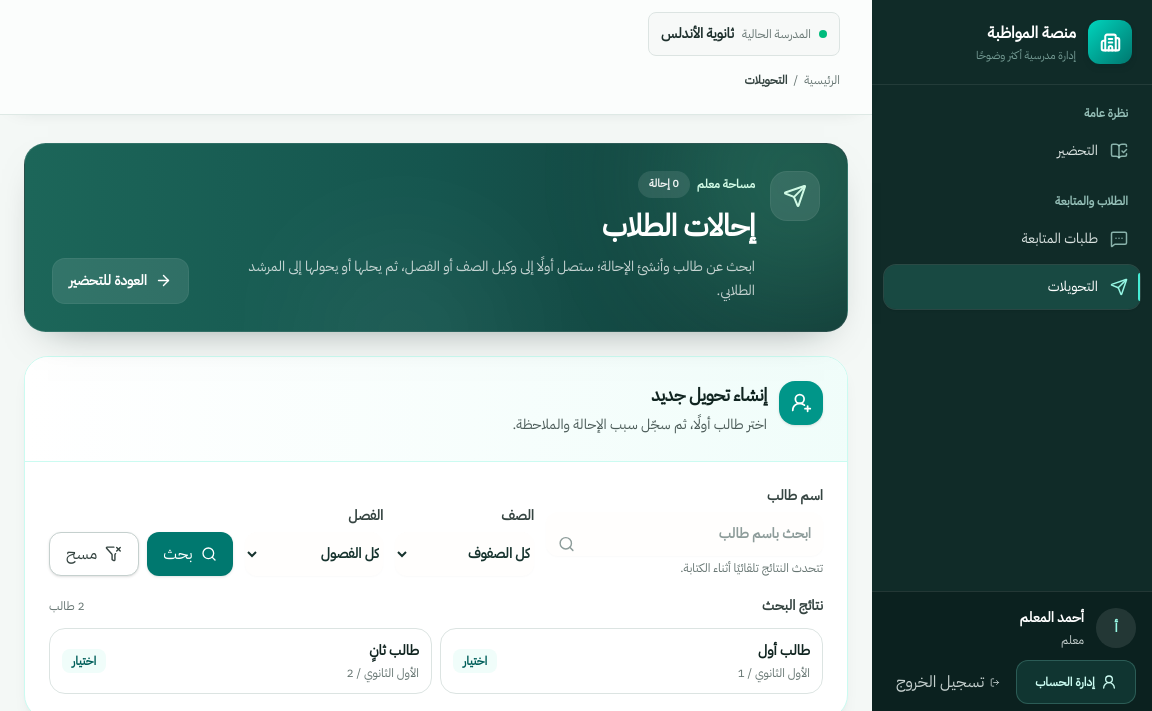
Scenario: referrals (Phase 13) › teacher refers a student from the dedicated referrals page
Click the button with test id "referral-candidate-11": (784, 650) 440,628 -> 823,694
(page scrolled)
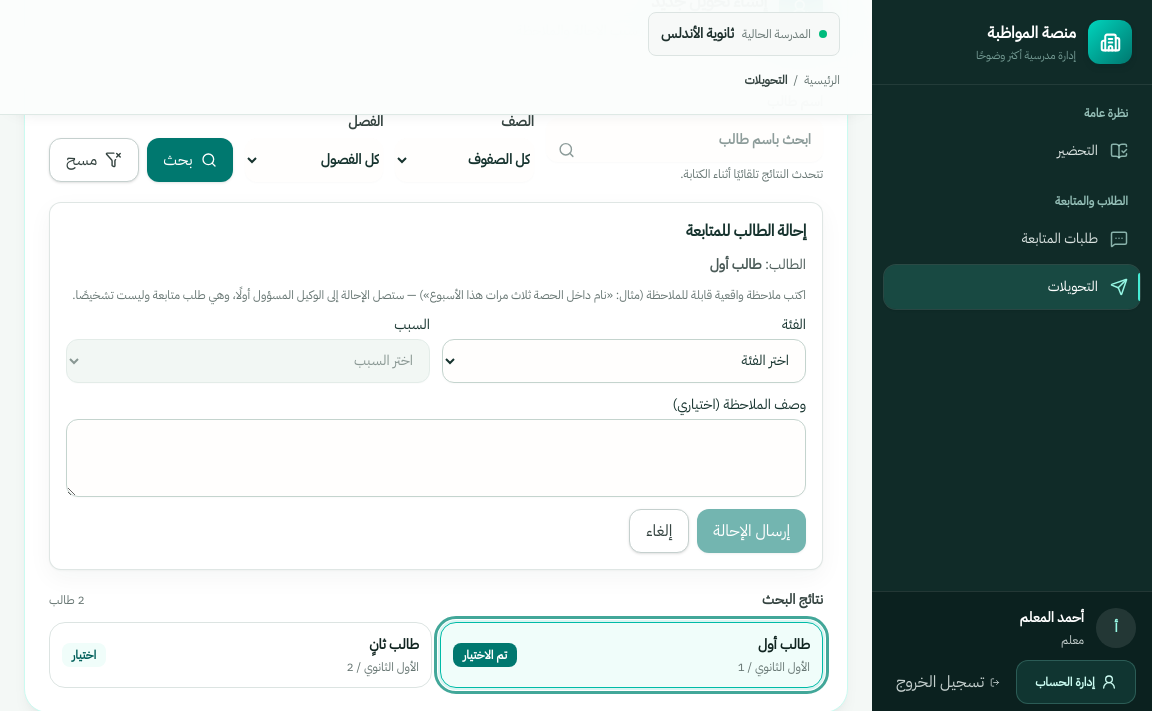
Expected: the text with test id "referral-student" reads "طالب أول", 710,254 -> 762,274
Select "سلوك صفي" in the dropdown with test id "referral-category": (624, 360) 442,338 -> 806,382
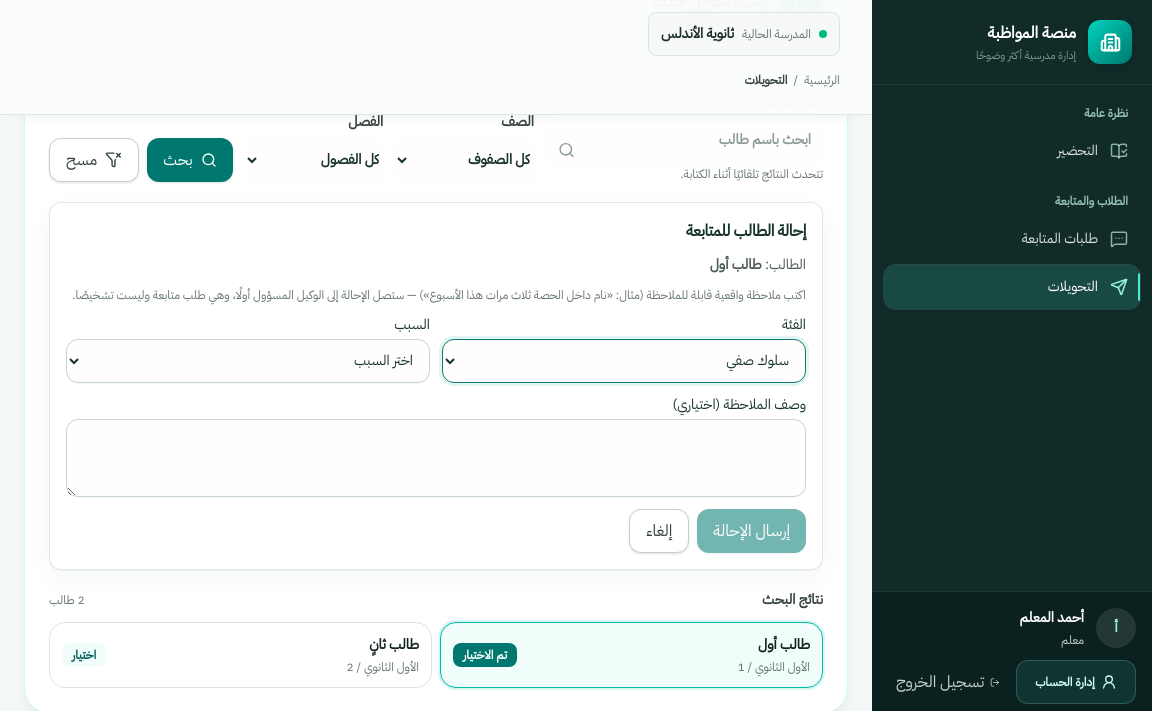
Select "النوم داخل الحصة" in the dropdown with test id "referral-reason": (248, 360) 66,338 -> 430,382
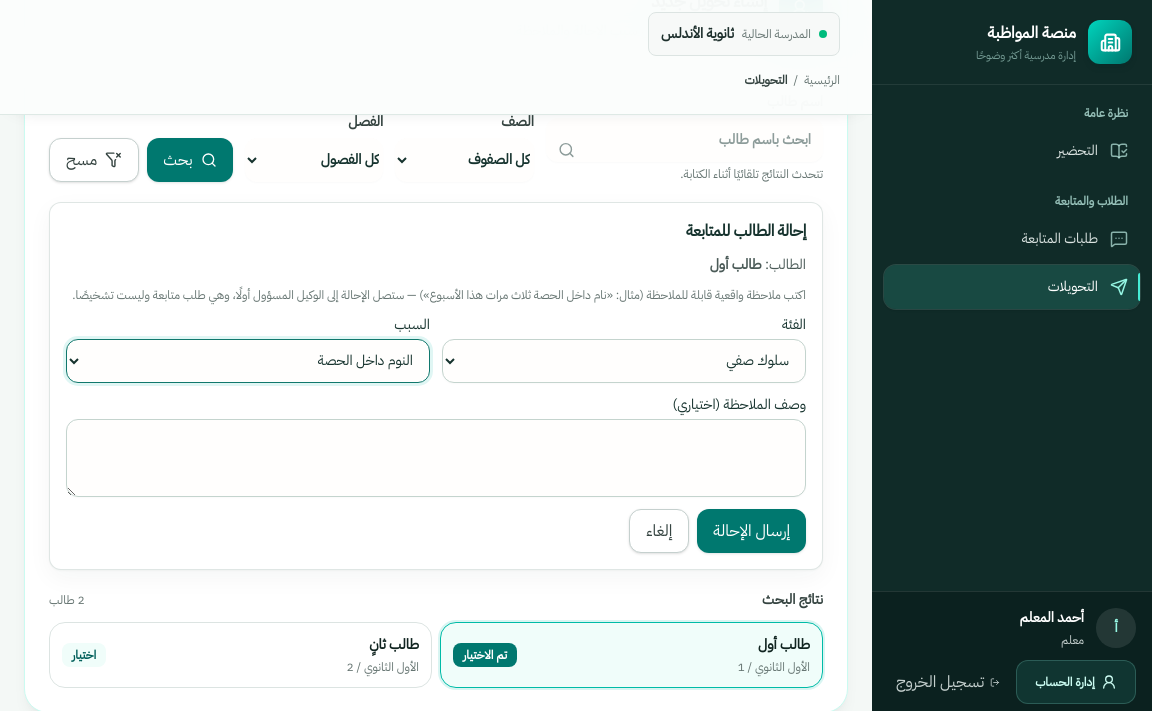
In the text box with test id "referral-description": (436, 458) 66,418 -> 806,496, type "نام داخل الحصة ثلاث مرات هذا الأسبوع."
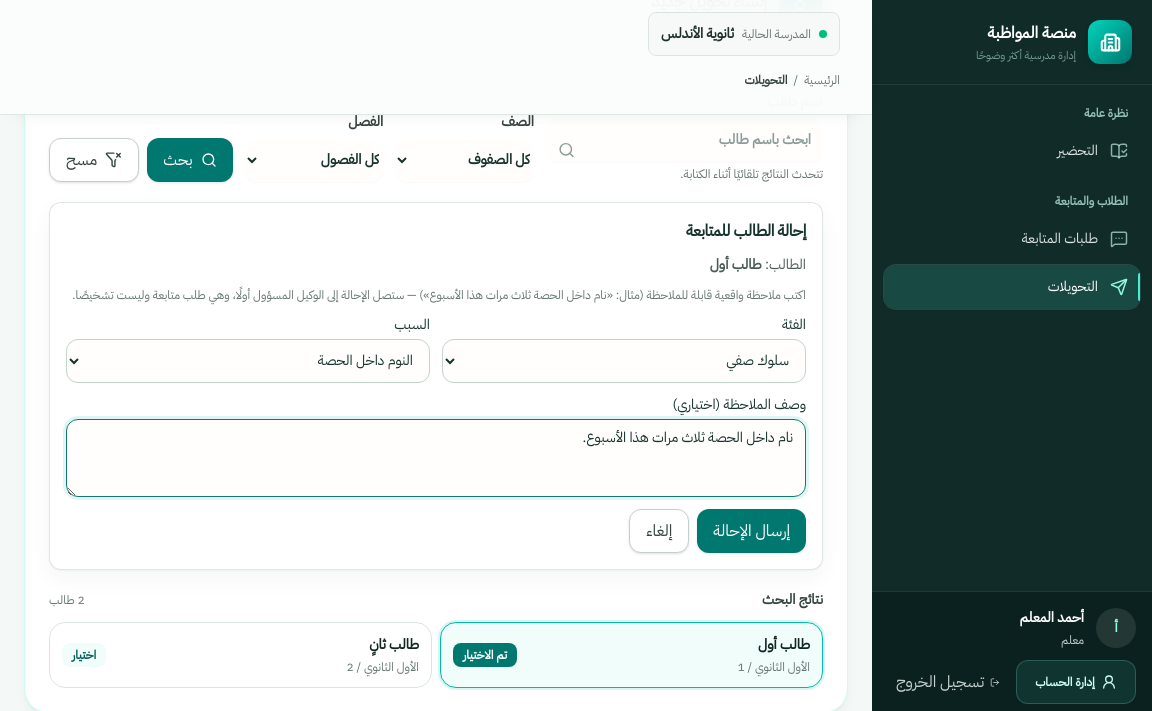
Click the button with test id "save-referral": (752, 530) 697,508 -> 806,552
(page scrolled)
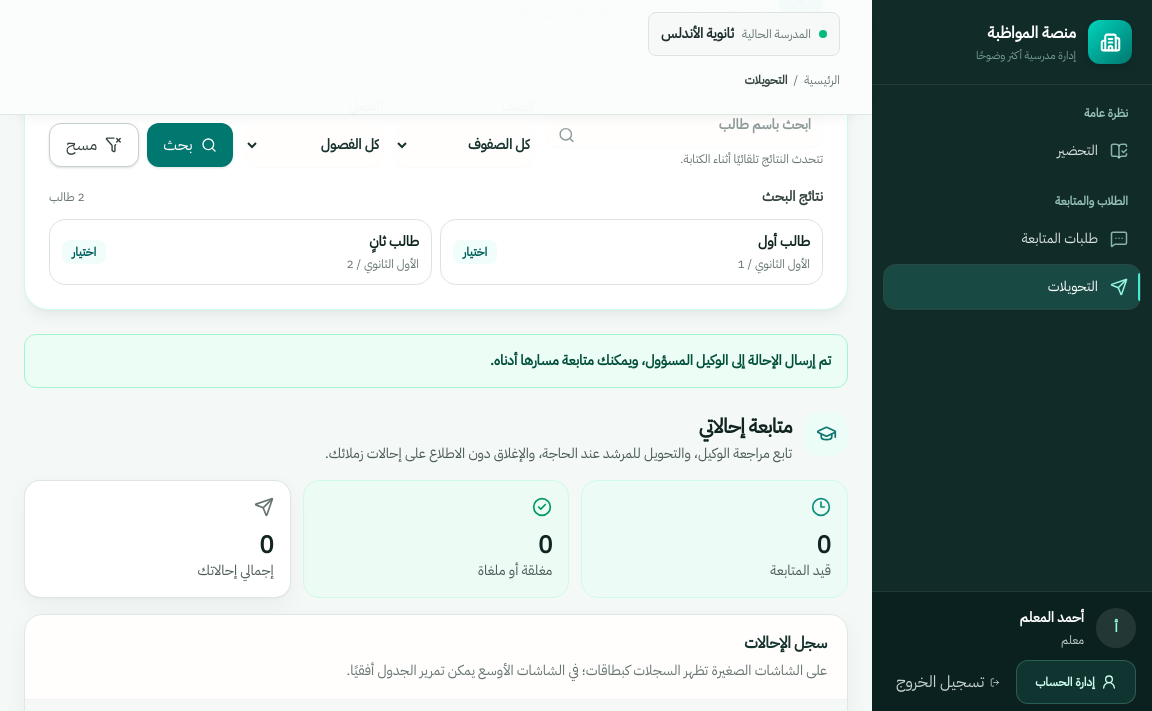
Expected: the message with test id "referral-done" shows "تم إرسال الإحالة", 490,350 -> 831,370
